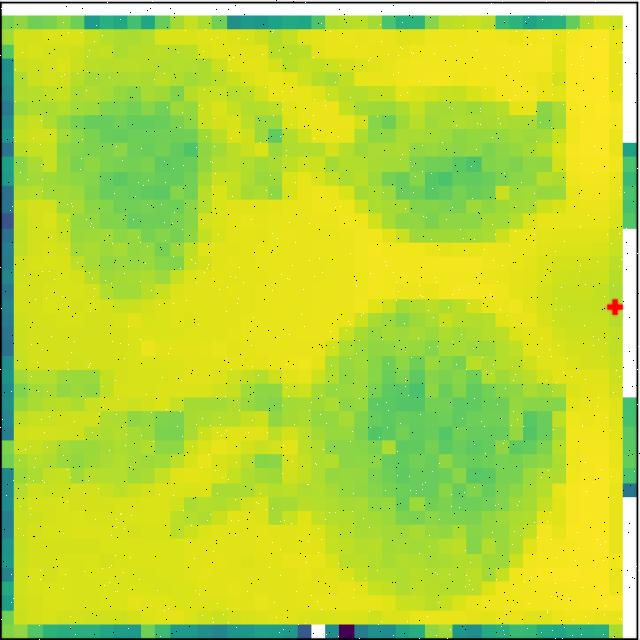Concrete: (357, 84, 537, 245)
Glass: (66, 81, 205, 292)
Metal: (327, 359, 542, 530)
Wood: (99, 406, 192, 491)
